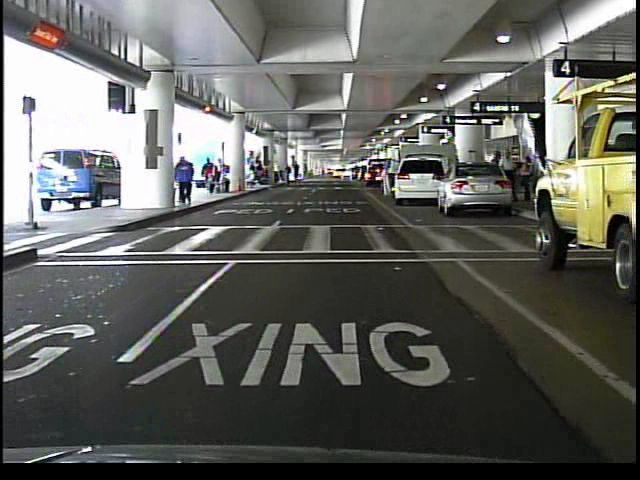person: (173, 152, 198, 207)
